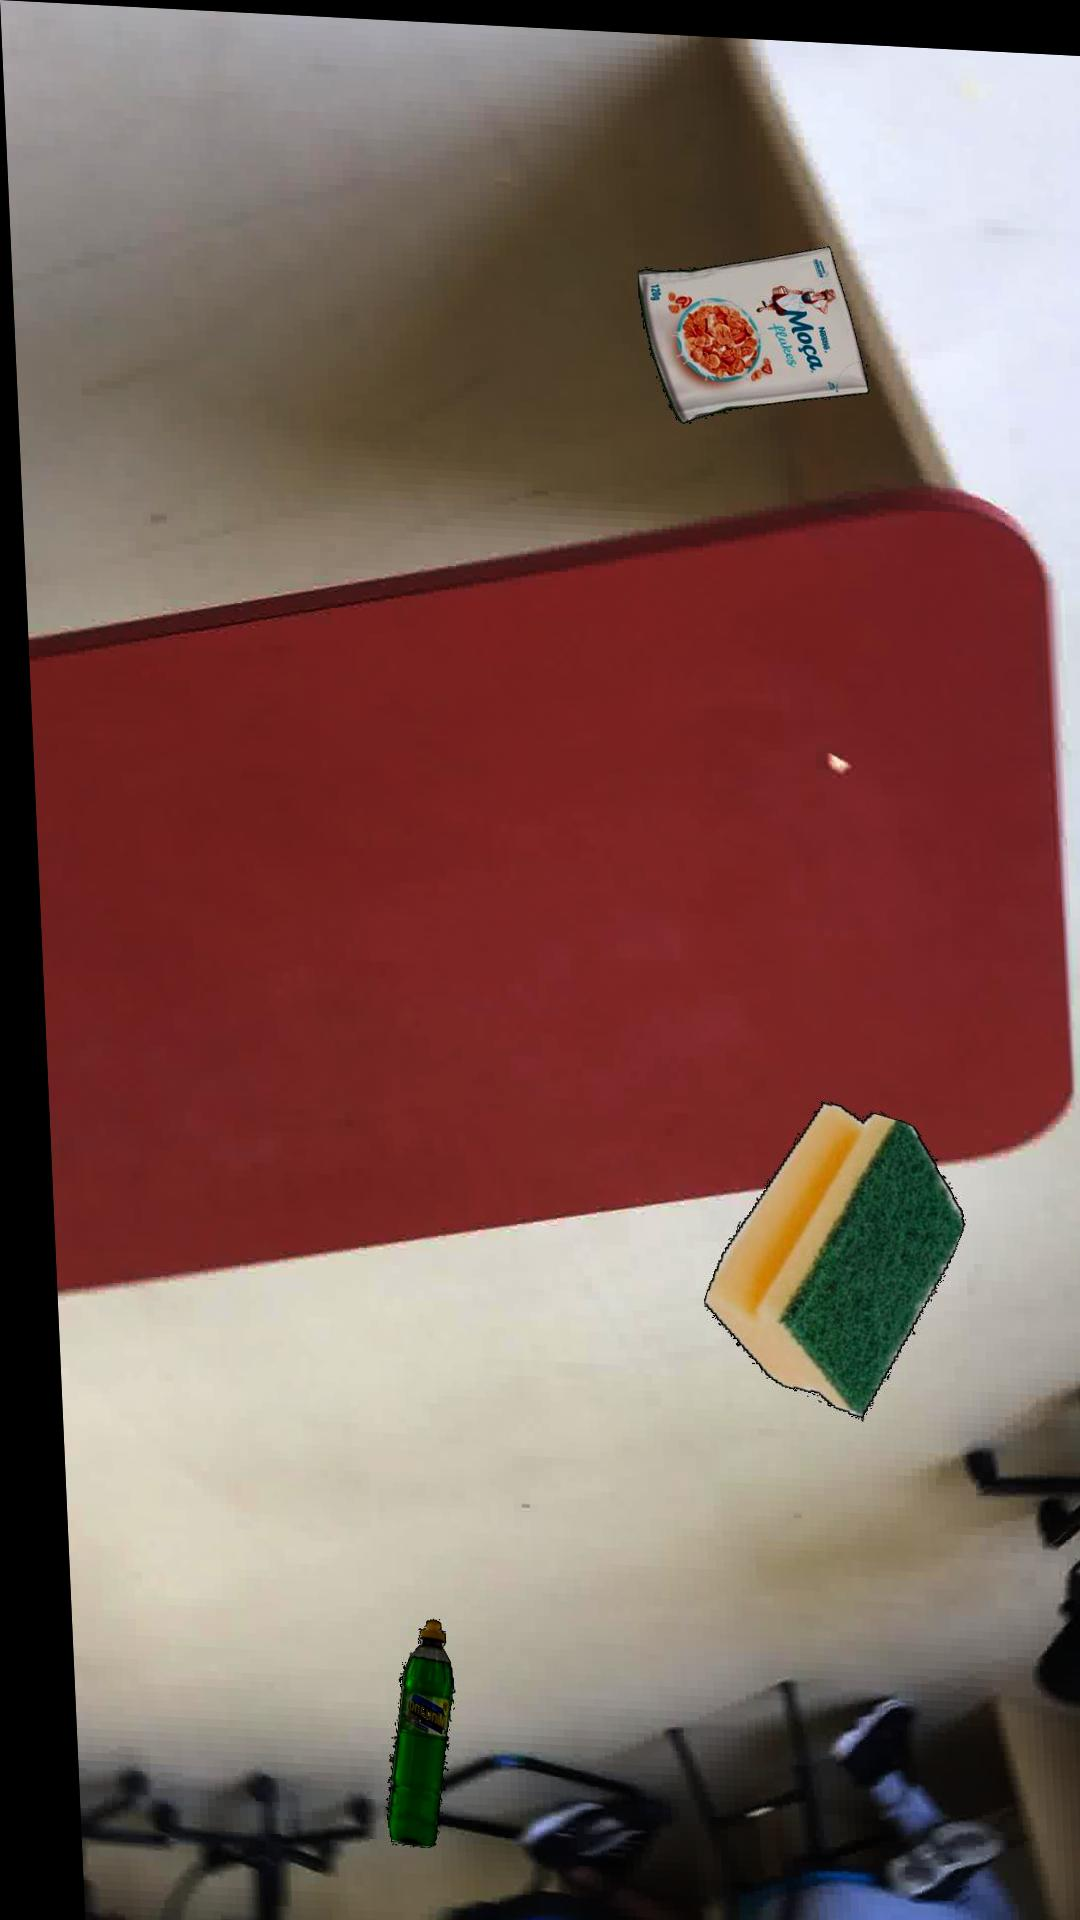cleaner: (367, 1617, 438, 1846)
corn flakes: (634, 239, 865, 418)
sponge: (691, 1095, 952, 1411)
